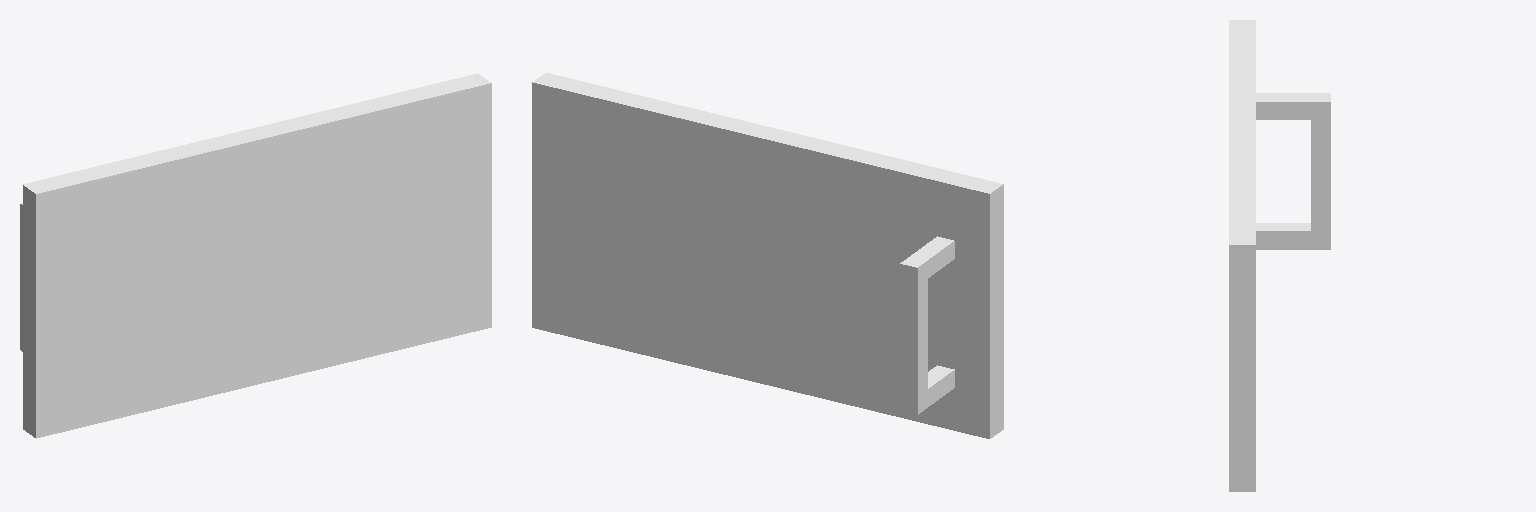
The robot description file, URDF, robot "top_left_door":
<?xml version="1.0" ?>
<robot name="top_left_door">
 <link name="baseLink">
   <contact>
     <lateral_friction value="0.5"/>
   </contact>
   <inertial>
     <origin rpy="0 0 0" xyz="0.599518 0.211815 0.960029"/>
      <mass value="1.0"/>
      <inertia ixx="0.000006" ixy="0.000000" ixz="-0.000000" iyy="0.000029" iyz="0.000000" izz="0.000024"/>
   </inertial>
   <visual>
     <origin rpy="0 0 0" xyz="0 0 0"/>
     <geometry>
       <mesh filename="top_left_door.obj" scale="1.0 1.0 1.0"/>
     </geometry>
      <material name="white">
       <color rgba="1 1 1 1"/>
     </material>
   </visual>
   <collision>
     <origin rpy="0 0 0" xyz="0 0 0"/>
     <geometry>
       <mesh filename="top_left_door_vhacd2.obj" scale="1.0 1.0 1.0"/>
     </geometry>
   </collision>
 </link>
</robot>

--- Render facts (derived) ---
The picture shows the robot from 3 angles, left to right: view 1: azimuth 30°, elevation 25°; view 2: azimuth 150°, elevation 25°; view 3: azimuth 270°, elevation 25°; orthographic projection.
Model top_left_door with 1 links and 0 joints (none), rooted at baseLink, posed every joint at zero.
Visible links, largest first — view 1: baseLink; view 2: baseLink; view 3: baseLink.
Link boxes in pixels (x1=…): baseLink: x1=20, y1=73, x2=491, y2=438; baseLink: x1=532, y1=73, x2=1003, y2=438; baseLink: x1=1229, y1=20, x2=1330, y2=491.
Size in the robot's own frame: 0.39 by 0.075 by 0.2 metres.
Meshes: 1 distinct files referenced, 1 mesh visuals loaded (1 OBJ).